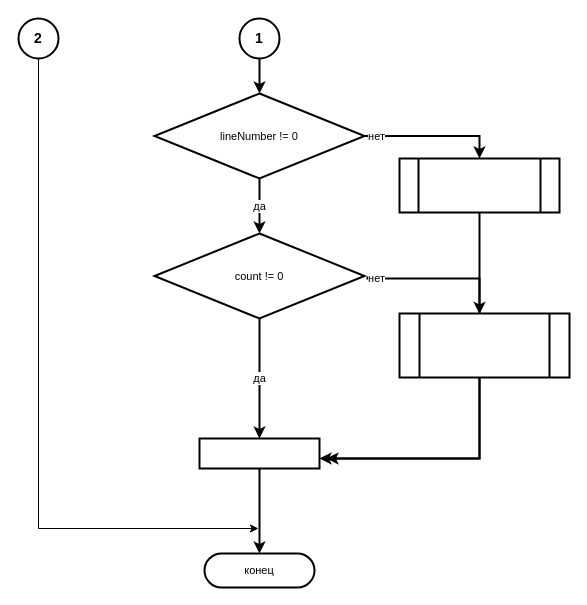
Some shapes in this 587 by 605 pixel diagram are drawn without their labels. Here are the shapes that lost their labels. From the top down, the box of each, then its label:
(398, 157, 560, 213): addError(..., "файл пустой")
(398, 312, 570, 378): addError(..., "корректных записей в файле нет")
(198, 437, 320, 469): return true
